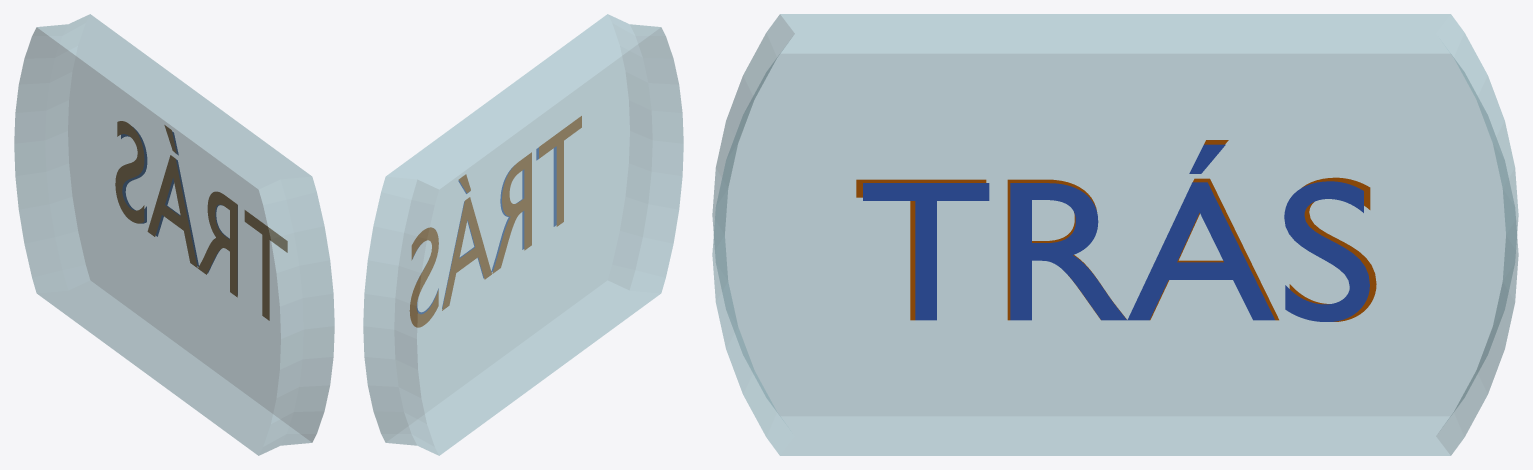
The model's file is tras.fbx.
3 views of the same model, side by side, from view 1: azimuth 30°, elevation 25°; view 2: azimuth 150°, elevation 25°; view 3: azimuth 270°, elevation 25° (orthographic). The views are drawn at different scales.
Visible parts, largest first — view 1: Cube, TextOutline, Text; view 2: Cube, TextOutline, Text; view 3: Cube, Text, TextOutline.
Part boxes in pixels (bbox=[...]): Cube: bbox=[14, 14, 334, 455]; TextOutline: bbox=[115, 121, 287, 320]; Text: bbox=[121, 127, 229, 273]; Cube: bbox=[363, 14, 683, 455]; TextOutline: bbox=[410, 116, 581, 327]; Text: bbox=[417, 146, 556, 313]; Cube: bbox=[712, 14, 1518, 455]; Text: bbox=[863, 144, 1369, 321]; TextOutline: bbox=[856, 140, 1376, 321].
Size of the model in its own units: 43.73 by 200 by 363.
